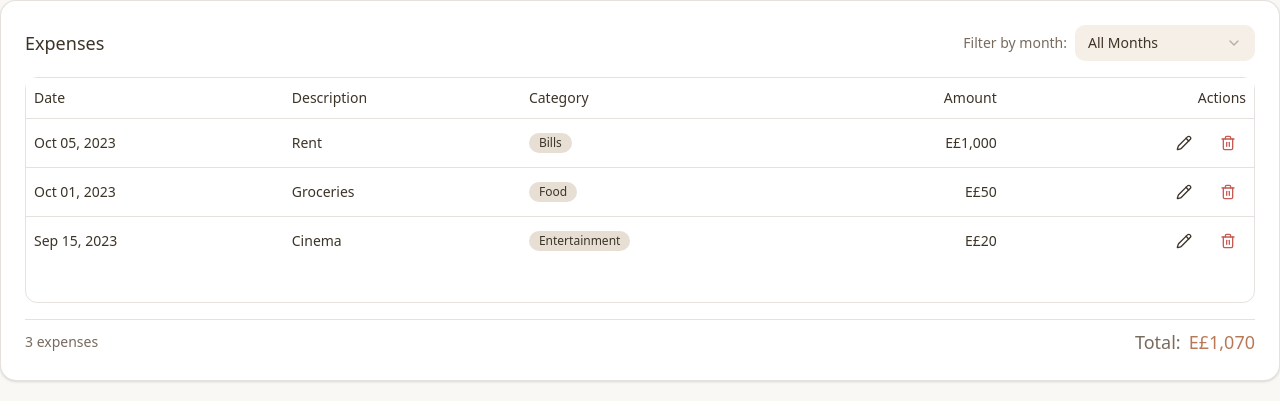
Scenario: ExpenseTable › filters expenses by month
The width and height of the screenshot is (1280, 401).
Expected: the text "Groceries" is shown, top-left (284, 167), bottom-right (521, 216)
Expected: the text "Cinema" is shown, top-left (284, 216), bottom-right (521, 264)
// Radix select trigger
Click the dropdown.
click(1165, 43)  # box top-left (1075, 25), bottom-right (1255, 61)
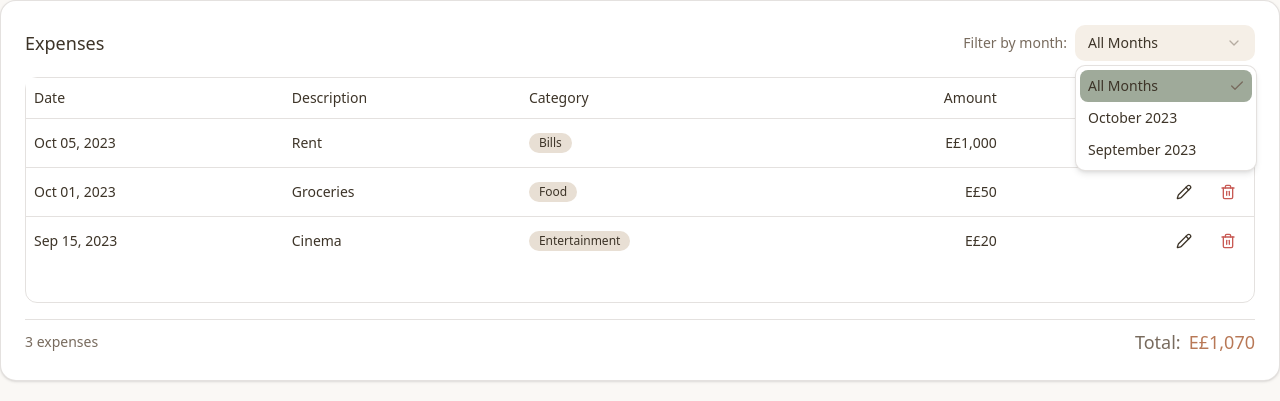
// Find October 2023 option
Click the option "October 2023".
click(1133, 118)  # box top-left (1088, 108), bottom-right (1177, 127)
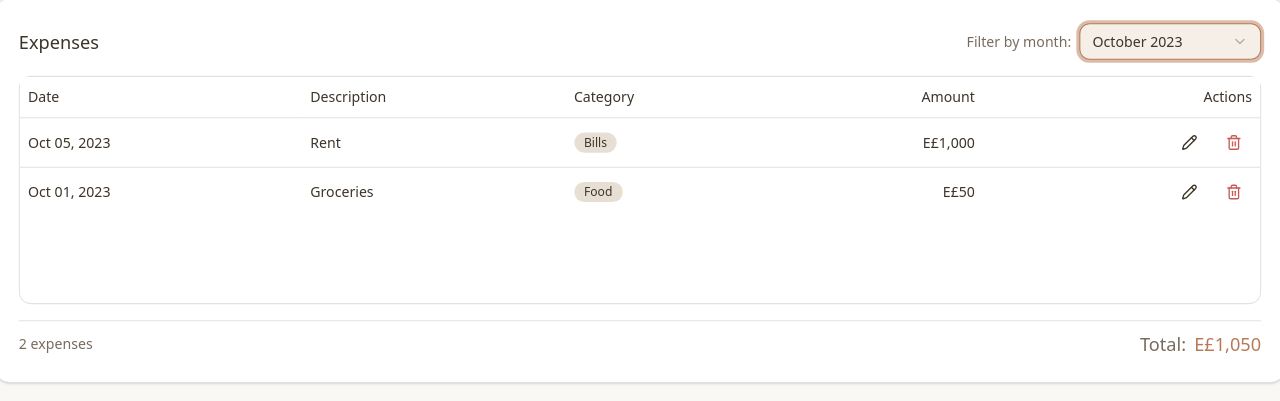
Expected: the text "Groceries" is shown, top-left (302, 167), bottom-right (566, 216)
Expected: the text "Cinema" is gone
